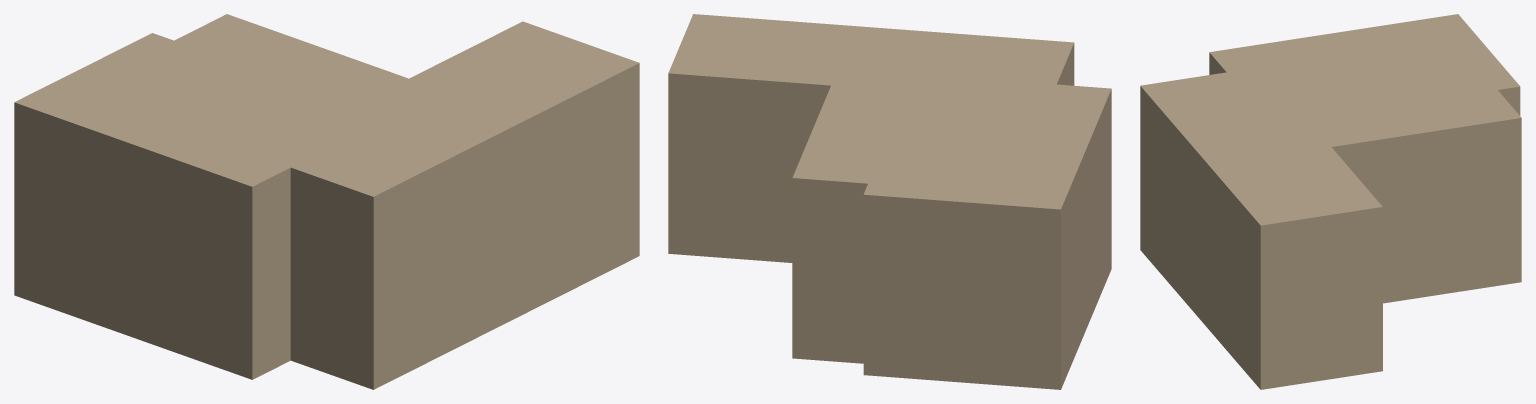
File: bld_1174606857.dae
The picture shows the model from 3 angles, left to right: view 1: azimuth 30°, elevation 25°; view 2: azimuth 150°, elevation 25°; view 3: azimuth 270°, elevation 25°; orthographic projection. The views are drawn at different scales.
Visible parts, largest first — view 1: bld_1174606857; view 2: bld_1174606857; view 3: bld_1174606857.
Boxes of the visible parts, <box> form: bld_1174606857: <box>14,14,639,389</box>; bld_1174606857: <box>668,14,1111,389</box>; bld_1174606857: <box>1140,14,1521,389</box>.
Bounding box in the file's own units: 22.1 × 16.83 × 8.
